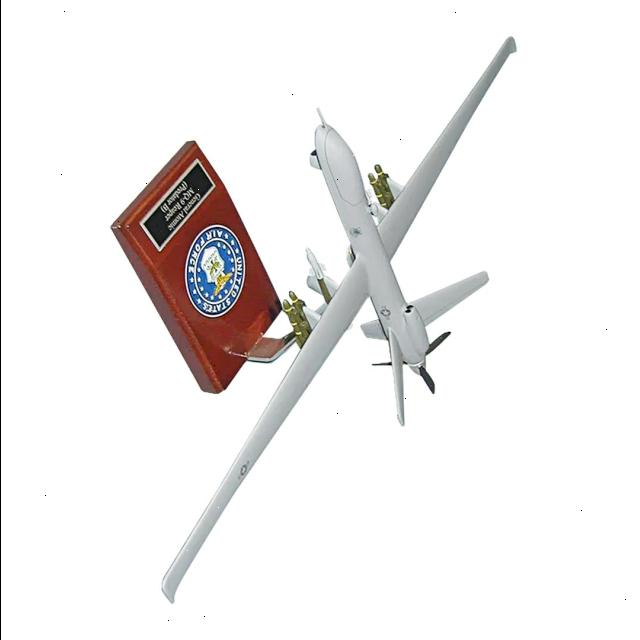MQ9: (145, 3, 560, 629)
